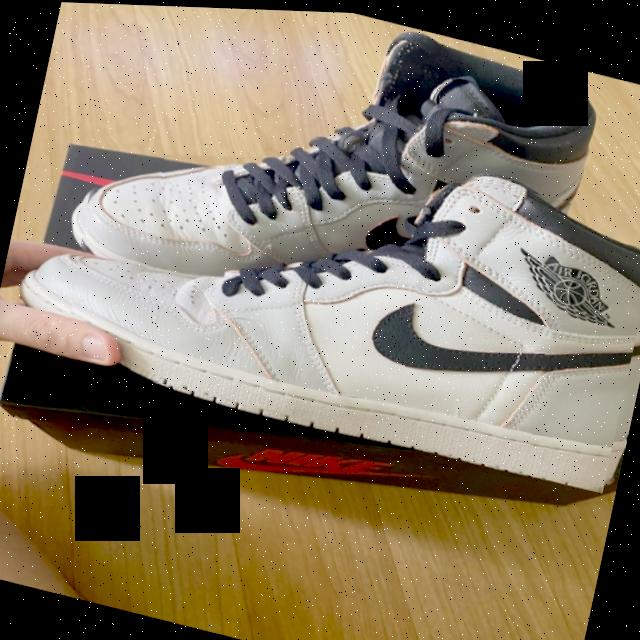shoe: (48, 80, 640, 490)
